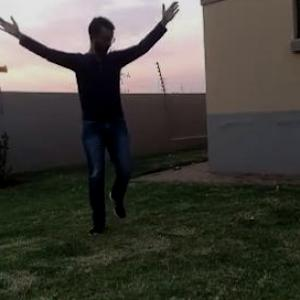takeoff: (1, 0, 184, 242)
